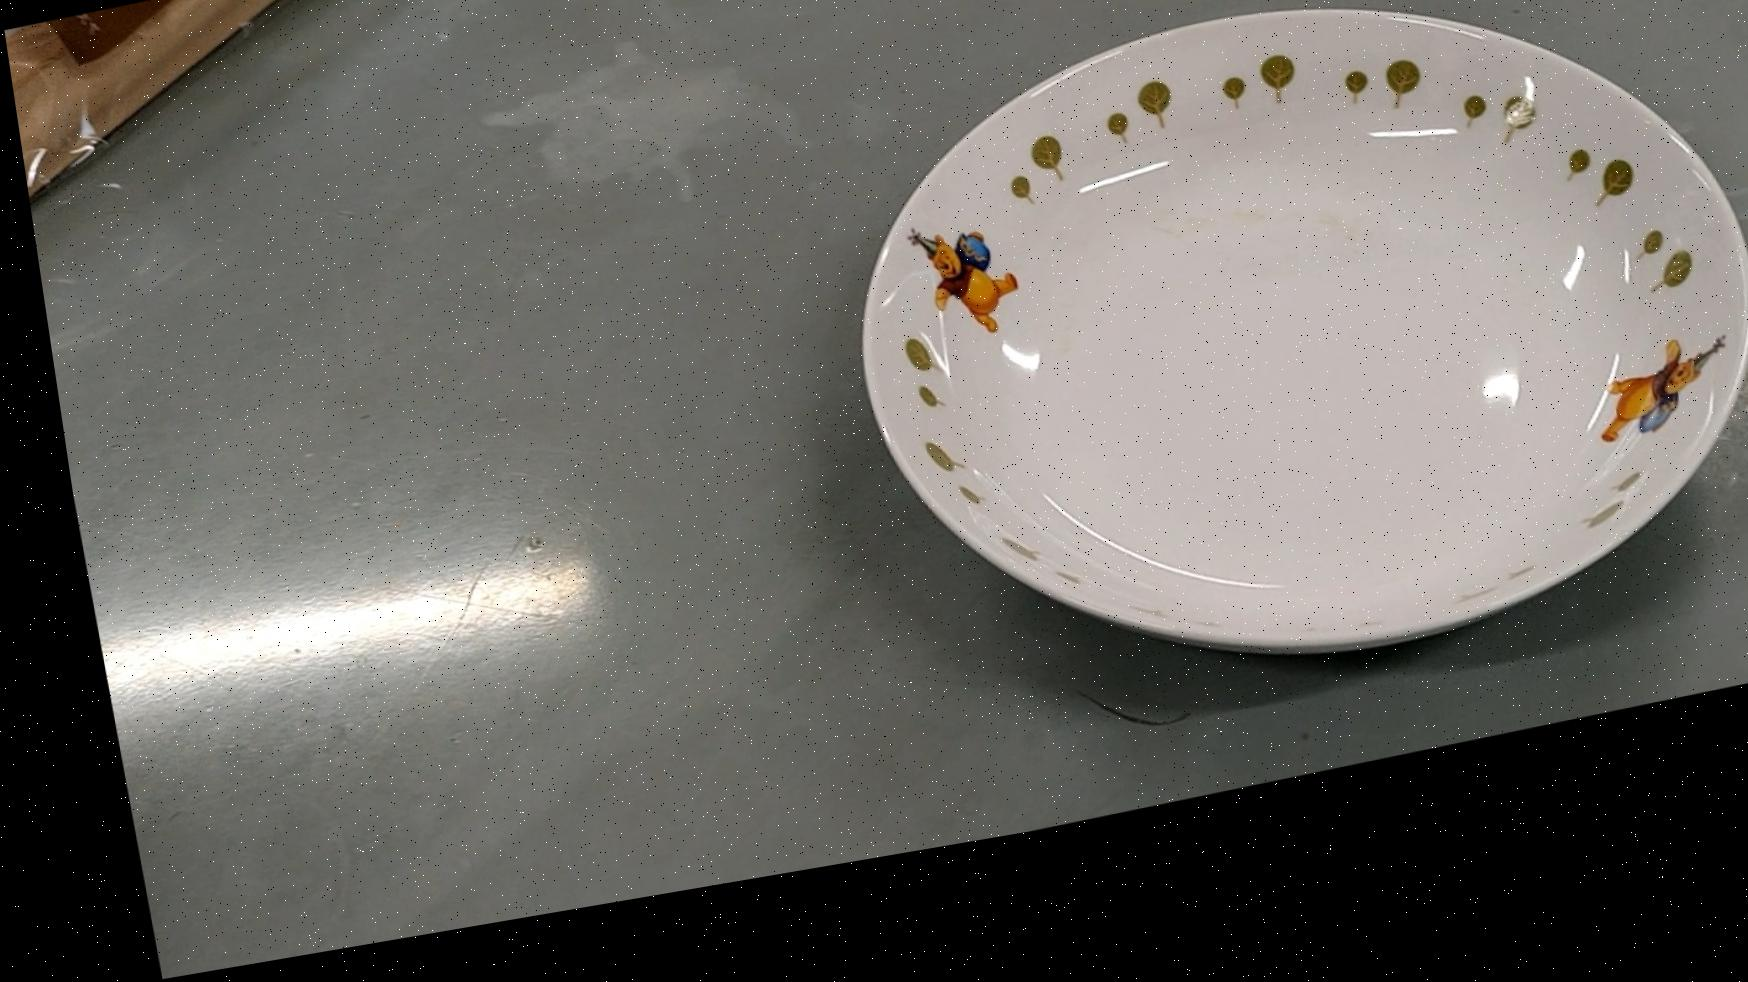plate: (815, 0, 1748, 762)
